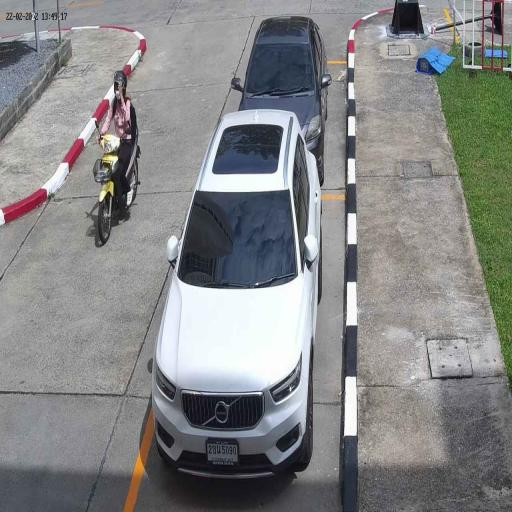car: (150, 107, 321, 481), (238, 15, 330, 154)
motorcycle: (94, 129, 142, 246)
